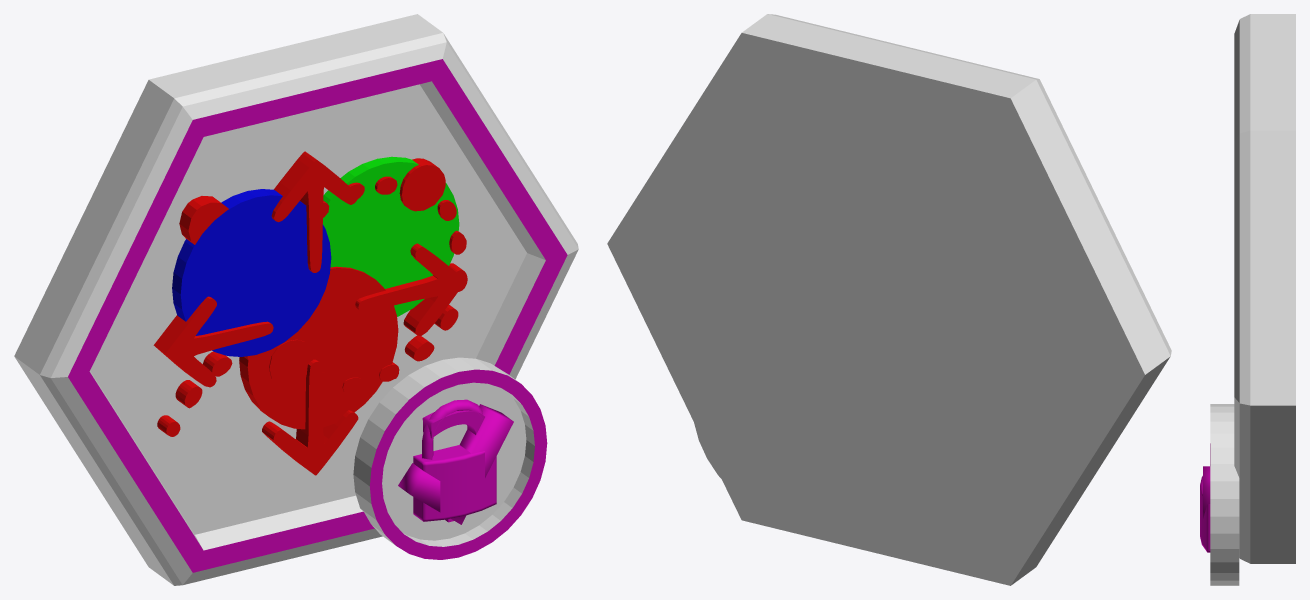
The model's file is planar_question.dae.
The picture shows the model from 3 angles, left to right: view 1: azimuth 30°, elevation 25°; view 2: azimuth 150°, elevation 25°; view 3: azimuth 270°, elevation 25°; orthographic projection. The views are drawn at different scales.
Visible parts, largest first — view 1: node, kColor, Hamiltonian, Lock, Checkmark; view 2: node; view 3: node, Lock, Checkmark.
Part boxes in pixels (x1,y1,x2,y2): node: [14, 14, 578, 585]; kColor: [172, 156, 459, 429]; Hamiltonian: [157, 158, 467, 436]; Lock: [413, 399, 496, 521]; Checkmark: [398, 404, 513, 524]; node: [607, 14, 1171, 585]; node: [1210, 14, 1295, 585]; Lock: [1200, 443, 1210, 552]; Checkmark: [1203, 466, 1210, 518].
Bounding box in the file's own units: 2 × 0.3477 × 1.8.
